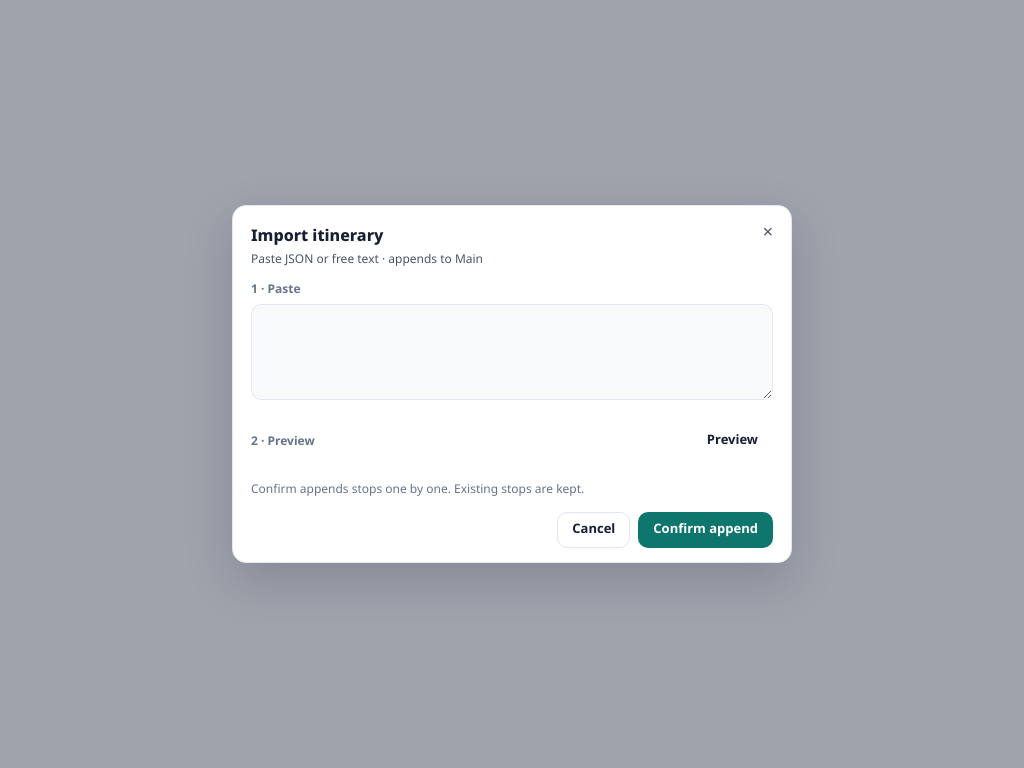
it: ItineraryImportDialog honest normalize failures › unsupported/unavailable AI or invalid content surfaces calm error-box copy (no fake preview); trip-plan context without path product UI
Clear the text box named "Import content": (512, 352) [251,304,773,400]
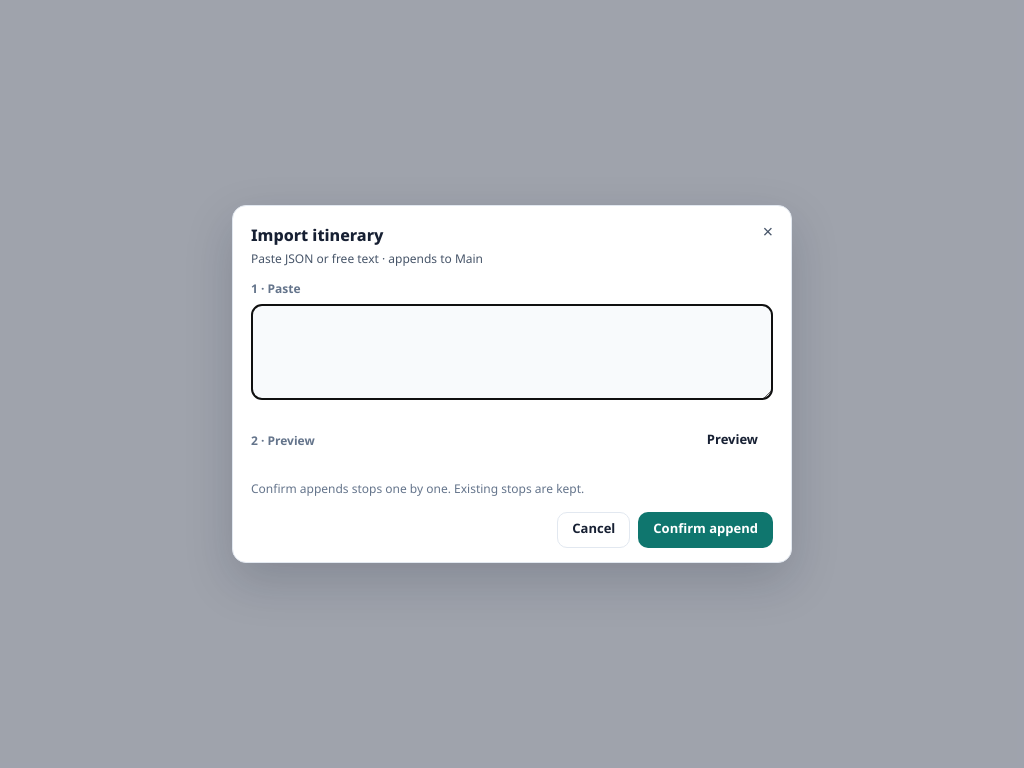
Type keys "Morning at the shrine, then lunch on Takeshita Street around noon."
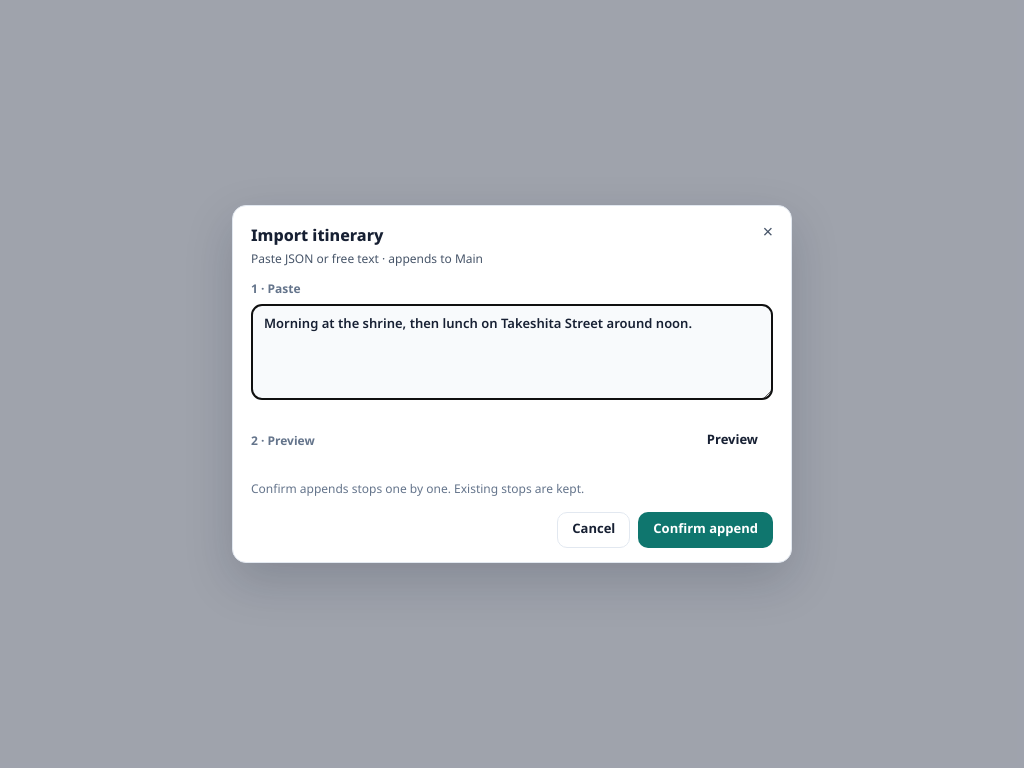
Click the button "Preview": (732, 441) [692,421,773,461]
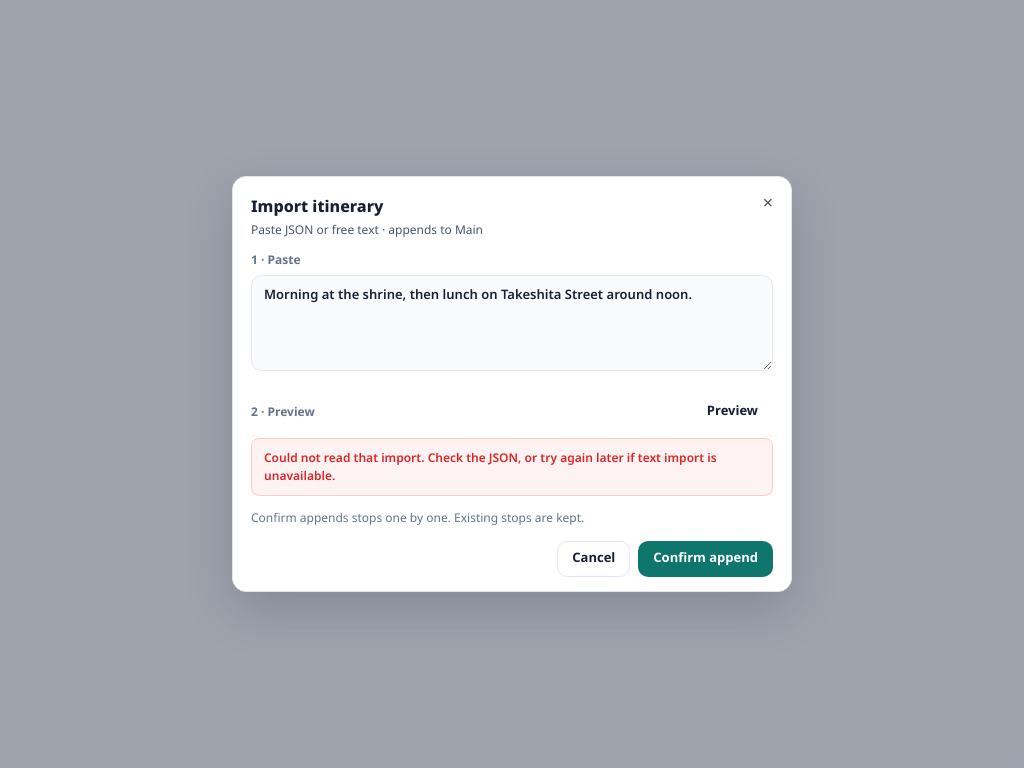
Expected: the message with class "error-box" is shown, [251,438,773,496]
Expected: the message with class "error-box" shows "Could not read that import. Check the JSON, or try again later if text import is unavailable.", [264,449,717,485]
